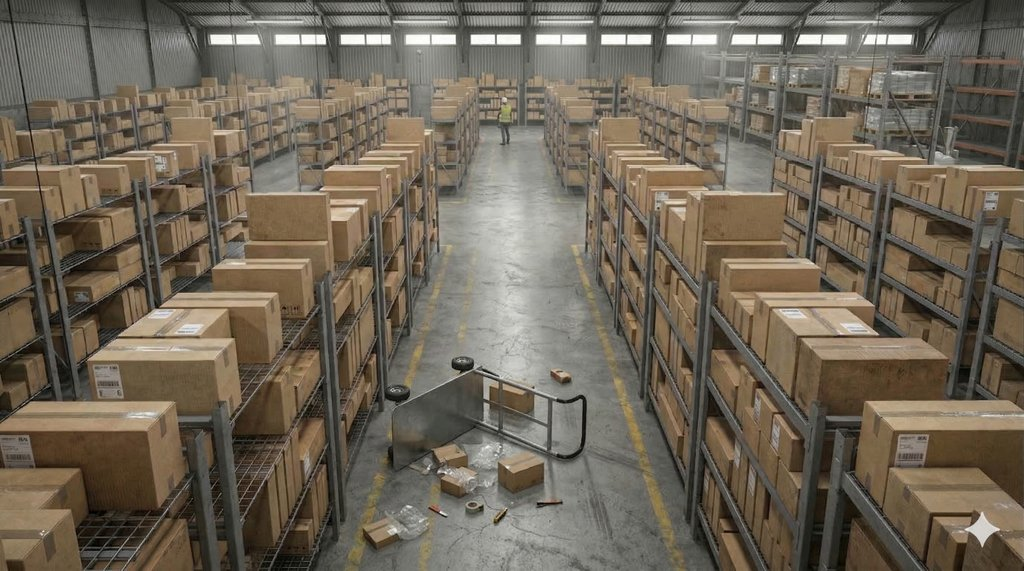obstacle: (352, 339, 589, 557)
person: (492, 94, 516, 146)
